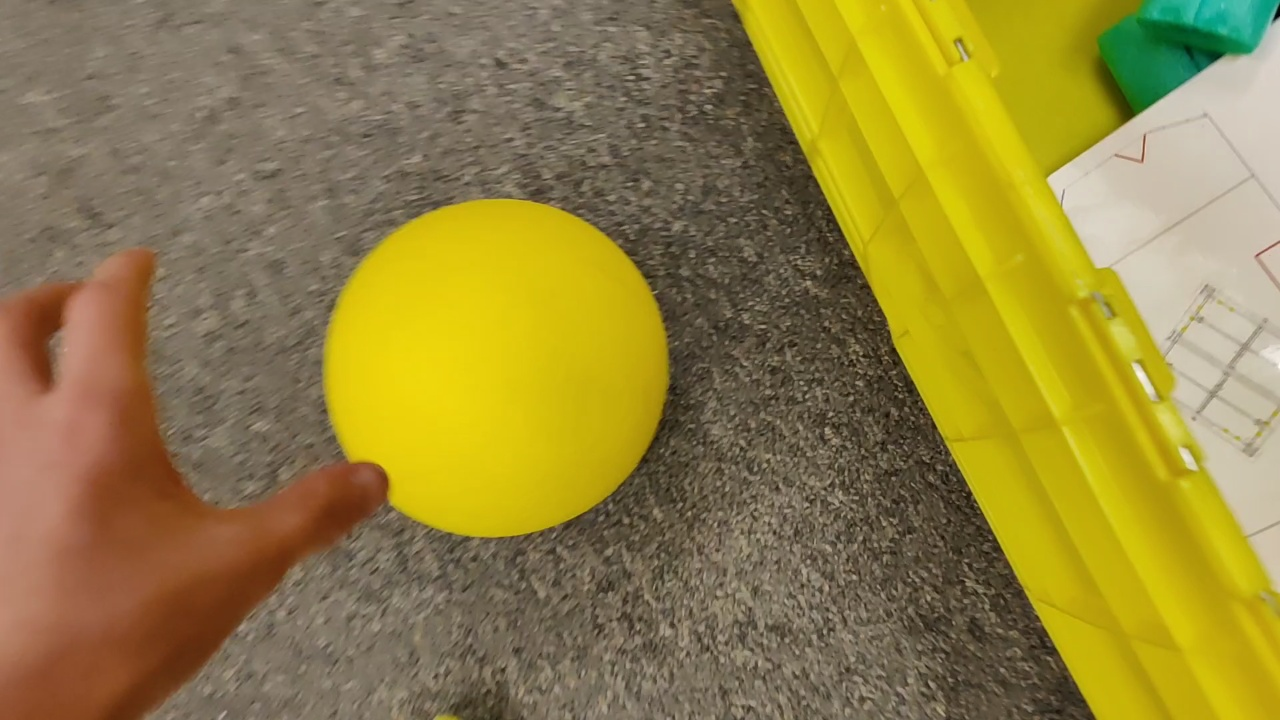Ball: (324, 197, 665, 536)
